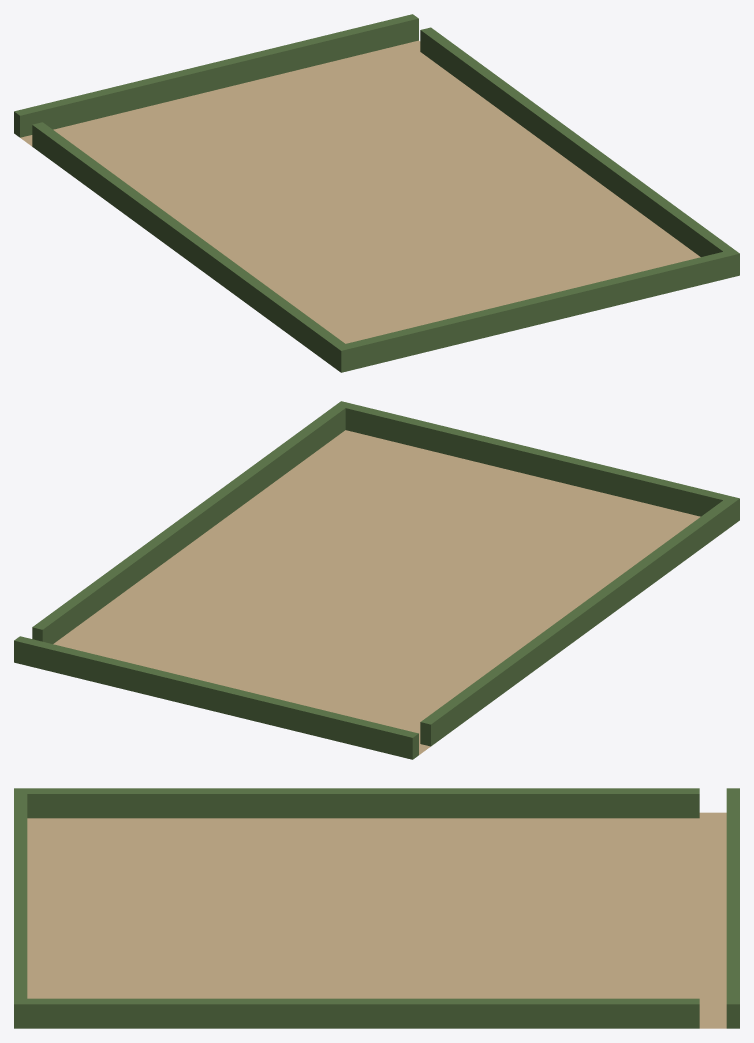
The model's file is urbanisation.glb.
The picture shows the model from 3 angles, top to bottom: view 1: azimuth 30°, elevation 25°; view 2: azimuth 150°, elevation 25°; view 3: azimuth 270°, elevation 25°; orthographic projection. The views are drawn at different scales.
Parts seen in each view (by area): view 1: Urbanisation; view 2: Urbanisation; view 3: Urbanisation.
Boxes of the visible parts, bbox=[...] form: Urbanisation: bbox=[14, 14, 739, 372]; Urbanisation: bbox=[14, 401, 739, 759]; Urbanisation: bbox=[14, 788, 739, 1028].
Size of what is drawn, in the model's own units: 38 by 2 by 54.
